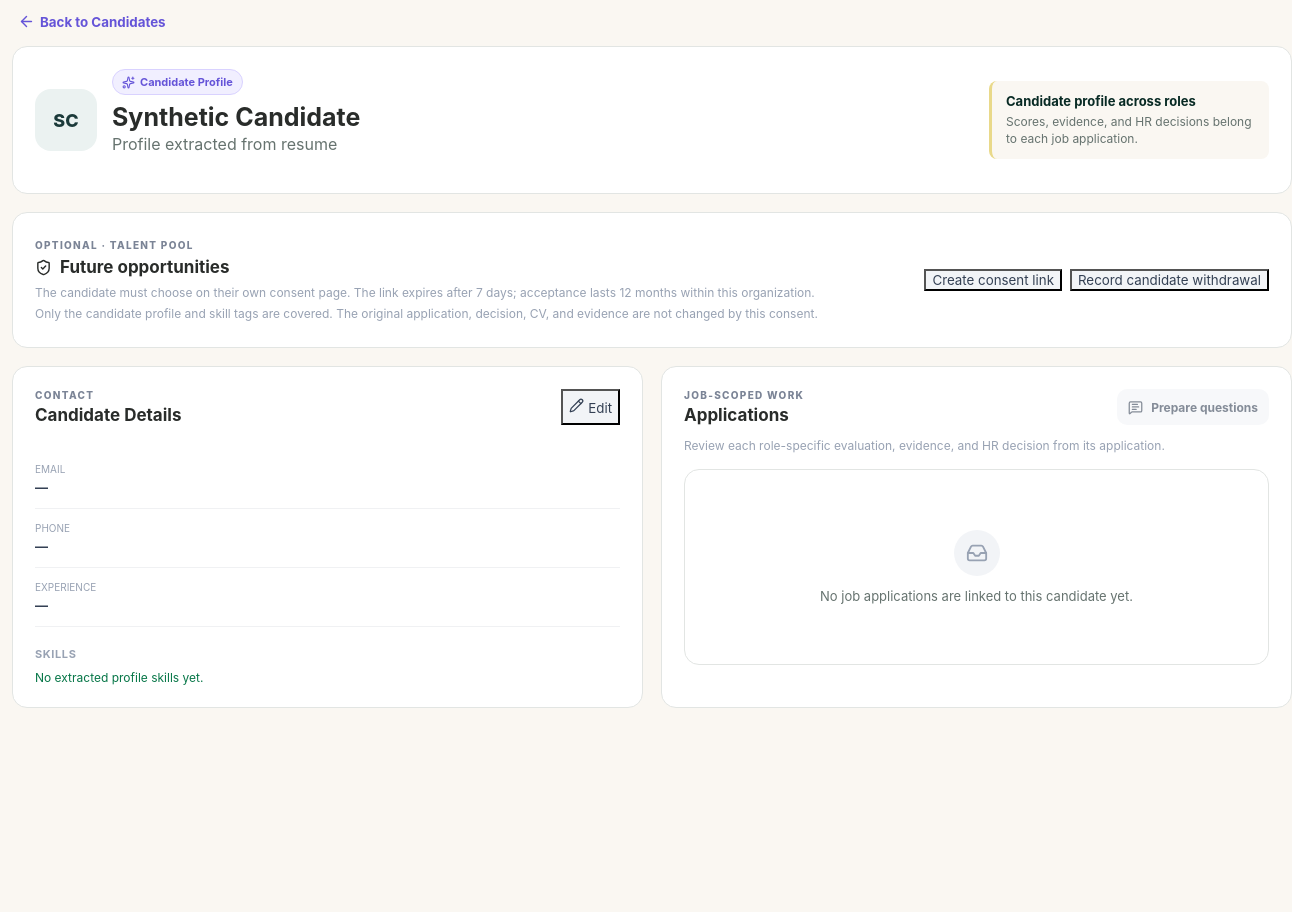
Scenario: CandidateDetails Talent Pool consent controls › records withdrawal only after the HR user confirms the candidate request
Click the button "Record candidate withdrawal" at (1170, 280), box [1070,269,1269,291]
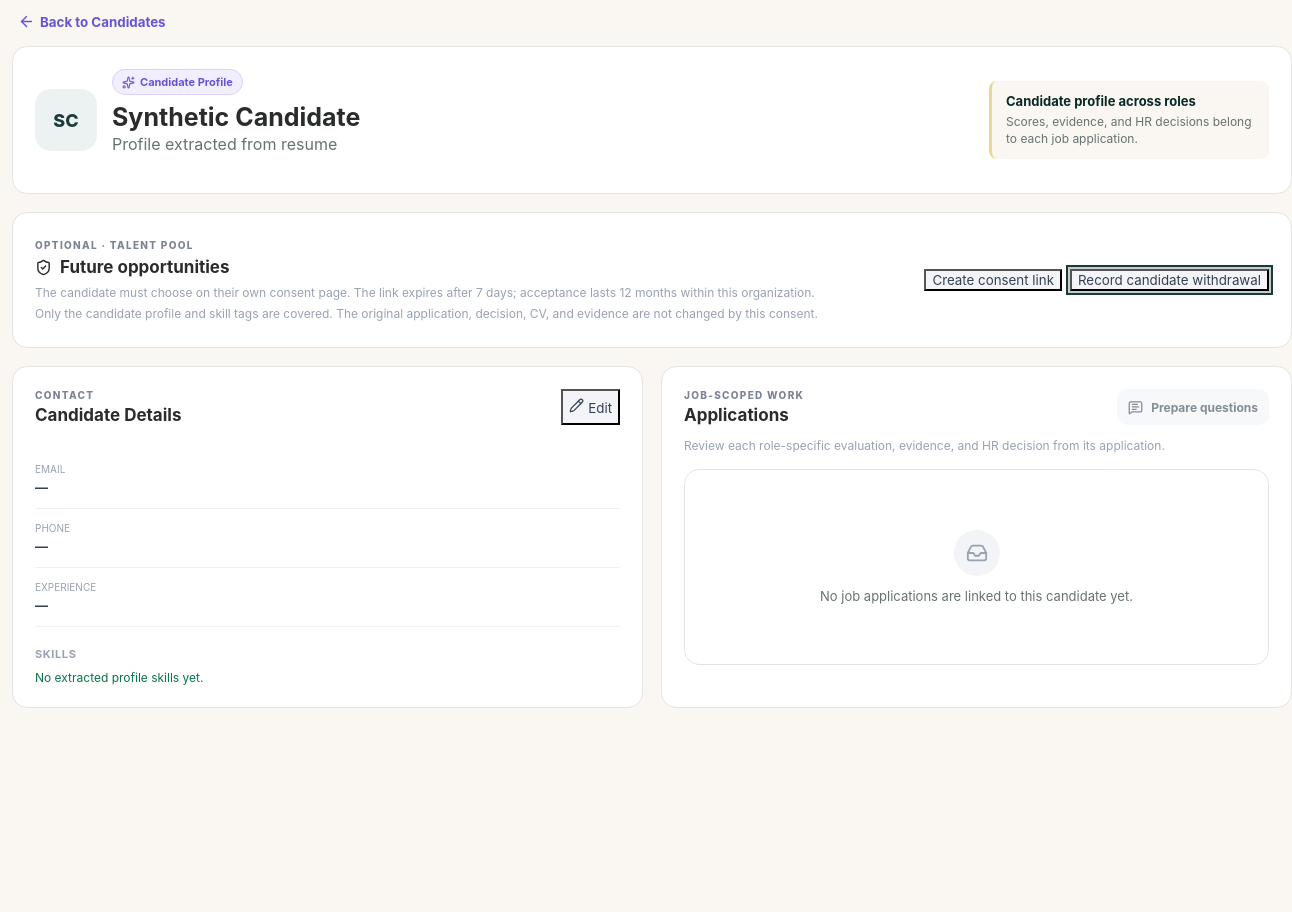
Click the button "Record candidate withdrawal" at (1170, 280), box [1070,269,1269,291]
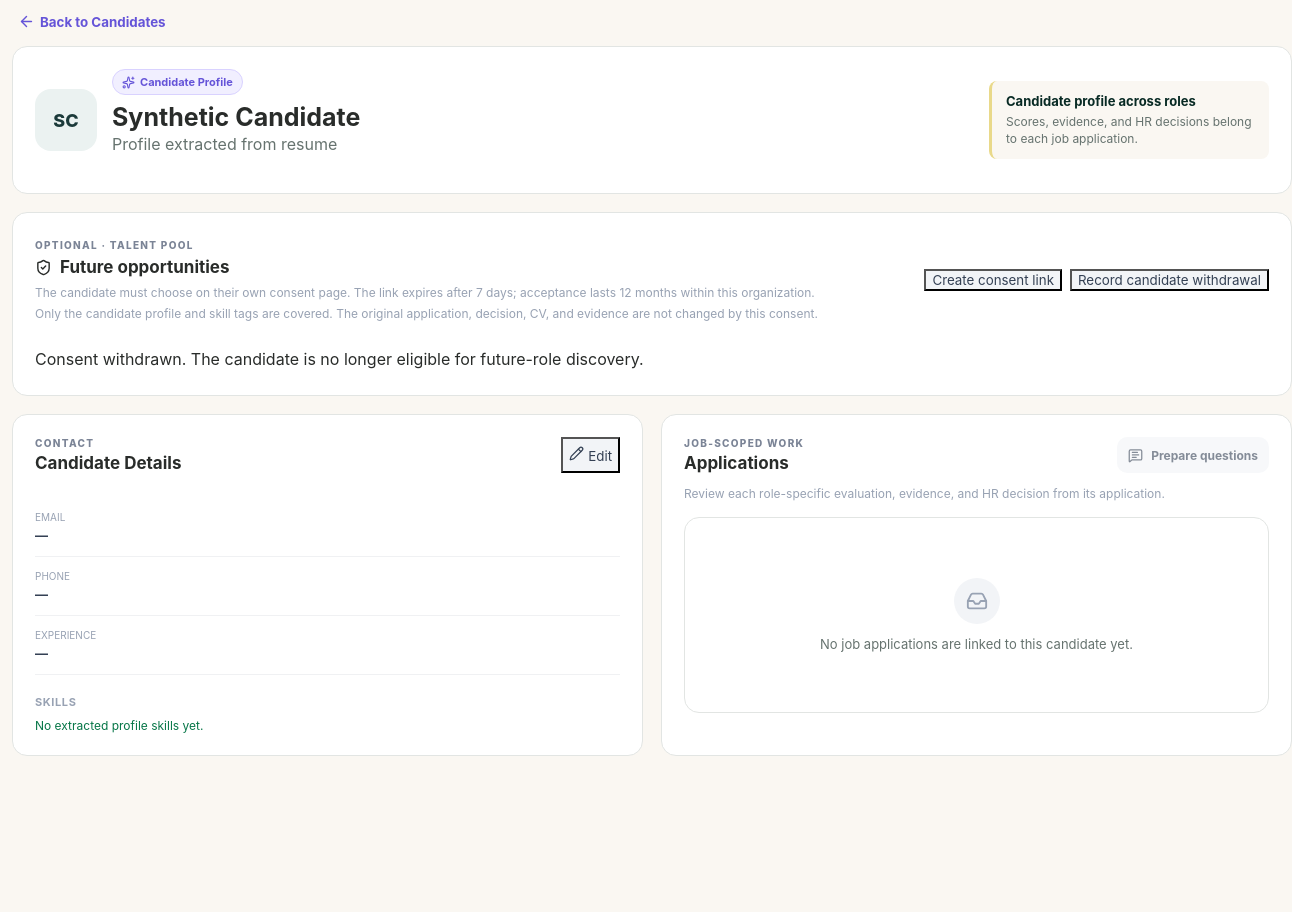
Now the message shows "no longer eligible", box [35,349,644,369]
